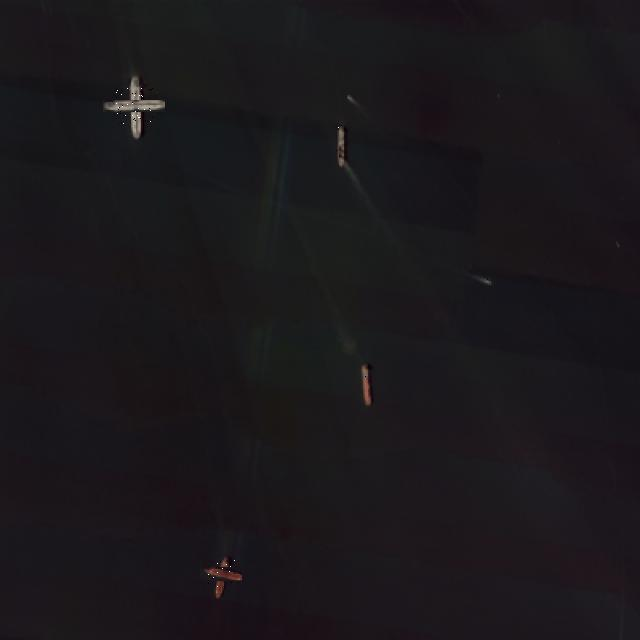boat: (116, 87, 153, 125), (207, 560, 236, 588), (360, 361, 371, 404), (336, 125, 344, 165), (487, 278, 491, 282), (616, 241, 619, 245), (347, 94, 349, 97)
